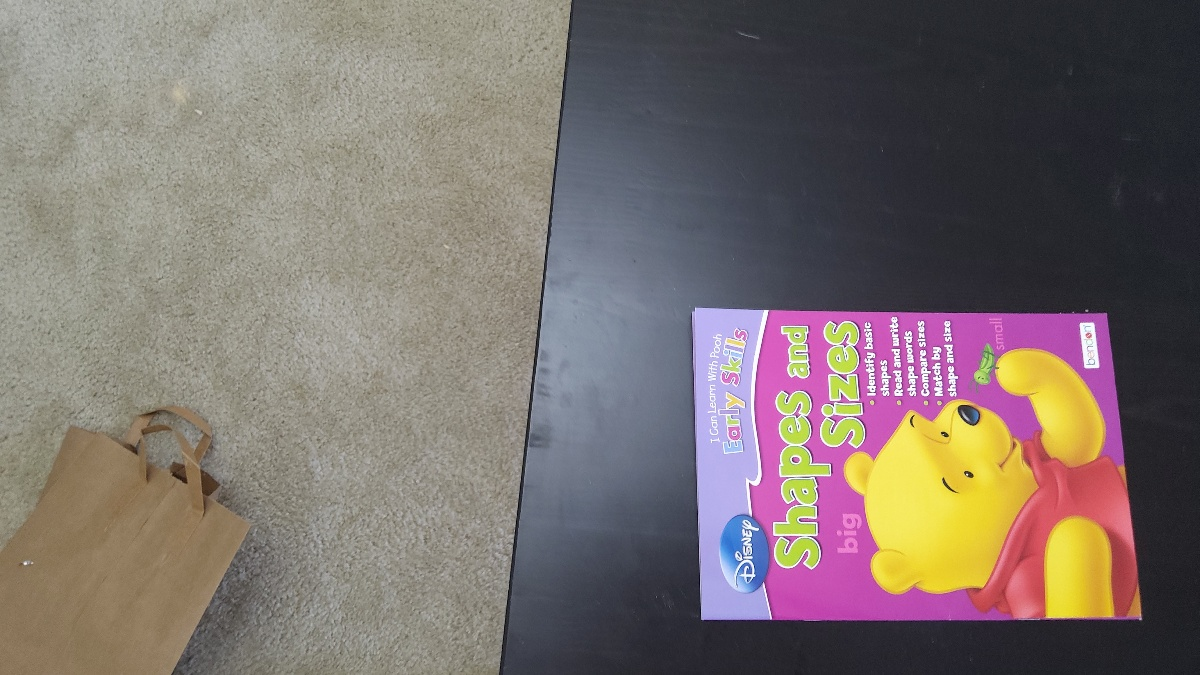book: (696, 310, 1131, 621)
